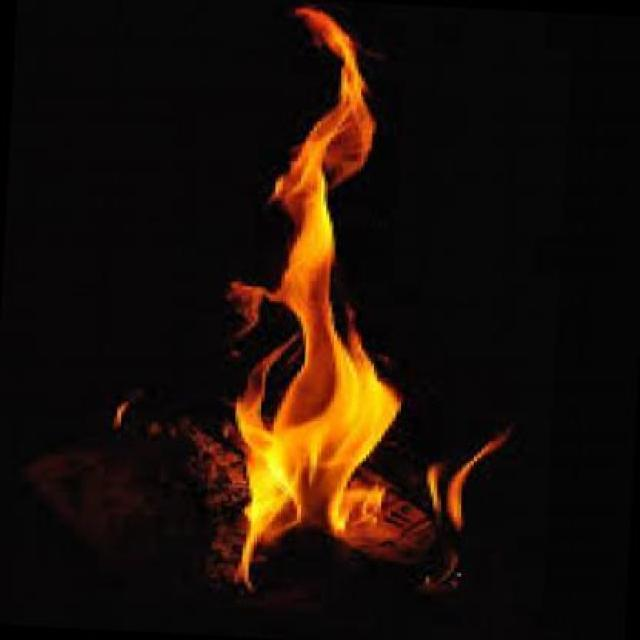Fire: (204, 10, 516, 583)
